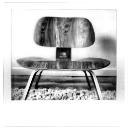chair_success: (12, 10, 116, 101)
